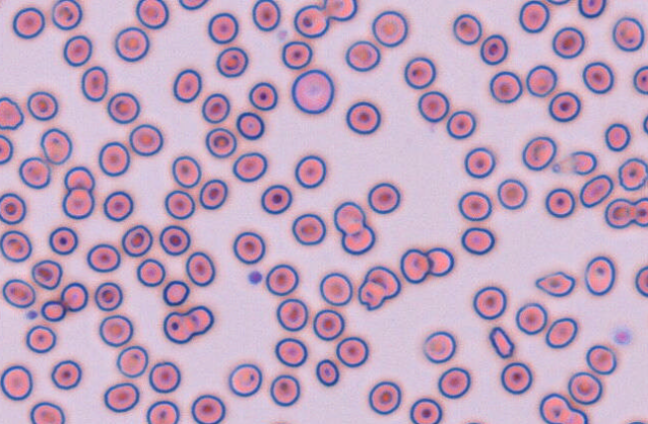PLT: (613, 328, 632, 345), (248, 270, 263, 285), (26, 309, 38, 320), (276, 29, 288, 40)
RBC: (290, 68, 334, 114), (371, 10, 408, 47), (114, 26, 149, 62), (363, 265, 400, 299), (584, 255, 615, 295), (521, 136, 556, 171), (293, 4, 329, 38), (345, 100, 381, 134), (39, 127, 72, 164), (567, 371, 602, 405), (472, 285, 506, 320), (0, 364, 33, 400), (579, 174, 613, 208), (228, 363, 262, 397), (368, 380, 401, 415), (98, 314, 133, 347), (291, 212, 326, 245), (128, 123, 163, 156), (319, 272, 352, 306), (422, 330, 456, 363), (437, 366, 471, 399), (106, 91, 140, 124), (98, 141, 130, 176), (612, 16, 644, 51), (344, 40, 380, 71), (18, 156, 51, 189), (275, 298, 308, 331), (265, 263, 298, 296), (367, 181, 400, 214), (232, 231, 265, 264), (403, 56, 436, 89), (489, 70, 522, 103), (12, 6, 45, 39), (294, 154, 326, 188), (551, 26, 585, 58), (399, 248, 430, 283), (457, 190, 492, 221), (232, 151, 267, 182), (103, 382, 139, 412), (162, 311, 194, 344), (333, 201, 365, 234), (61, 187, 94, 219), (515, 302, 547, 335), (500, 361, 532, 394), (116, 345, 148, 378), (545, 316, 578, 348), (148, 360, 180, 393), (0, 229, 32, 262), (121, 224, 153, 257), (525, 64, 557, 97), (582, 61, 614, 94), (341, 224, 375, 255), (185, 251, 215, 286), (312, 308, 344, 340), (417, 90, 449, 122), (463, 146, 495, 178), (539, 392, 572, 423), (335, 336, 368, 367), (518, 0, 549, 33), (548, 91, 581, 122), (215, 46, 248, 77), (617, 157, 647, 191), (172, 68, 202, 102), (460, 226, 495, 255), (190, 394, 225, 423), (80, 65, 108, 101), (585, 344, 617, 375), (269, 374, 300, 406), (50, 359, 82, 390), (260, 183, 292, 214), (207, 12, 238, 44), (26, 90, 58, 121), (2, 278, 35, 308), (274, 337, 307, 367), (171, 155, 201, 188), (86, 243, 120, 272), (135, 0, 169, 29), (604, 197, 635, 228), (496, 178, 527, 209), (544, 187, 575, 218), (159, 224, 190, 255), (102, 190, 133, 221), (205, 127, 236, 158), (62, 34, 92, 66), (452, 13, 482, 45), (31, 259, 62, 289), (164, 189, 195, 219), (51, 0, 82, 30), (280, 40, 312, 69), (479, 33, 508, 65), (184, 305, 214, 335), (248, 81, 278, 111), (446, 109, 476, 139), (25, 324, 56, 353), (201, 92, 230, 123), (251, 0, 280, 31), (48, 226, 78, 255), (94, 281, 123, 311), (60, 281, 88, 312), (199, 178, 227, 209), (409, 397, 442, 423), (136, 258, 165, 287), (235, 111, 264, 140), (0, 192, 26, 224), (0, 96, 24, 130), (63, 165, 94, 191), (29, 401, 65, 423), (604, 122, 631, 151), (145, 400, 179, 423), (162, 279, 190, 306), (324, 0, 357, 21), (315, 358, 339, 386), (577, 0, 606, 18), (632, 65, 647, 94), (634, 265, 647, 297), (633, 197, 647, 226), (0, 134, 13, 164), (565, 407, 588, 423), (178, 0, 209, 10), (620, 417, 647, 424), (642, 113, 648, 134), (546, 0, 571, 5)
Schistocyte: (534, 270, 574, 300), (358, 280, 387, 312), (490, 326, 516, 359), (425, 247, 454, 276), (572, 151, 598, 175), (42, 301, 68, 322)
